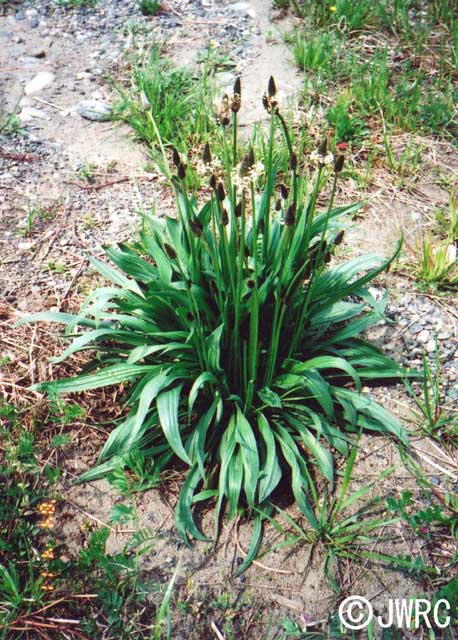buckhorn plantain: (122, 77, 385, 517)
